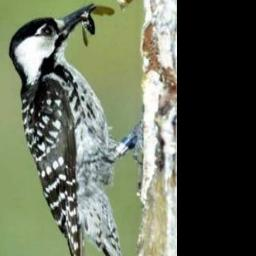Woodpecker: (10, 0, 145, 256)
